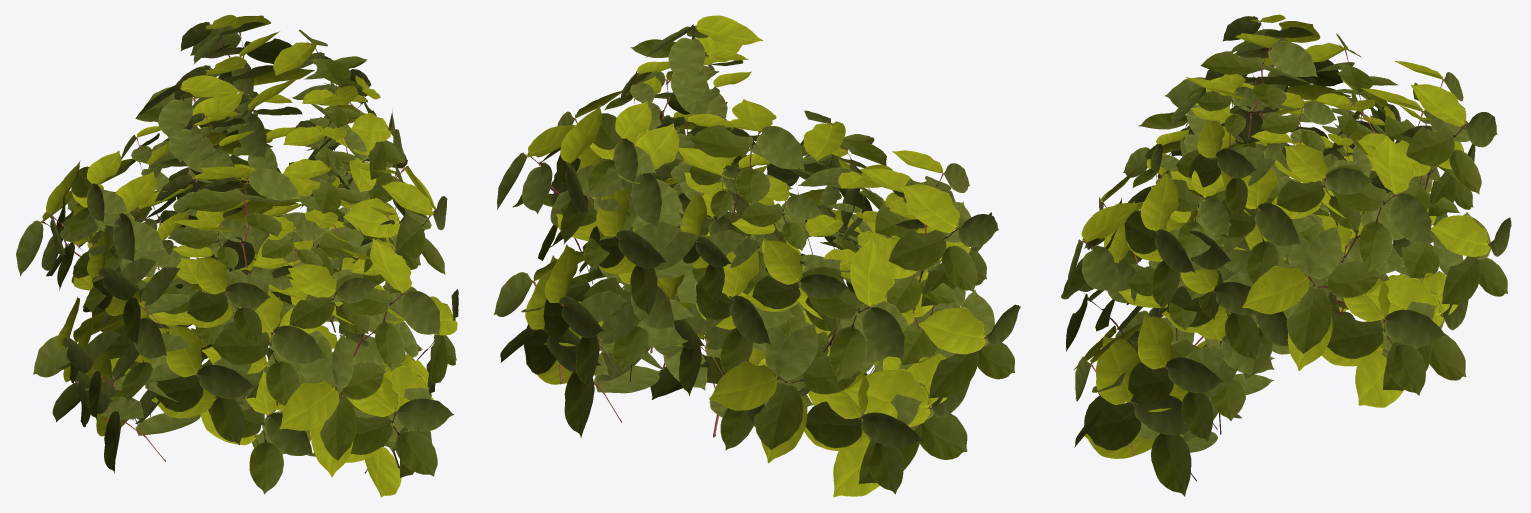
Rendered from PNW Plant_A_Large_1k.glb.
3 renders of one model, left to right at view 1: azimuth 30°, elevation 25°; view 2: azimuth 150°, elevation 25°; view 3: azimuth 270°, elevation 25°, orthographic. The views are drawn at different scales.
Parts seen in each view (by area): view 1: Plant_A_Large_1k; view 2: Plant_A_Large_1k; view 3: Plant_A_Large_1k.
Boxes of the visible parts, x1,y1,x2,y2 form: Plant_A_Large_1k: [16, 14, 458, 497]; Plant_A_Large_1k: [494, 15, 1020, 497]; Plant_A_Large_1k: [1061, 14, 1511, 496].
Bounding box in the file's own units: 1.76 × 1.77 × 1.72.
1 material, 1 textured.
